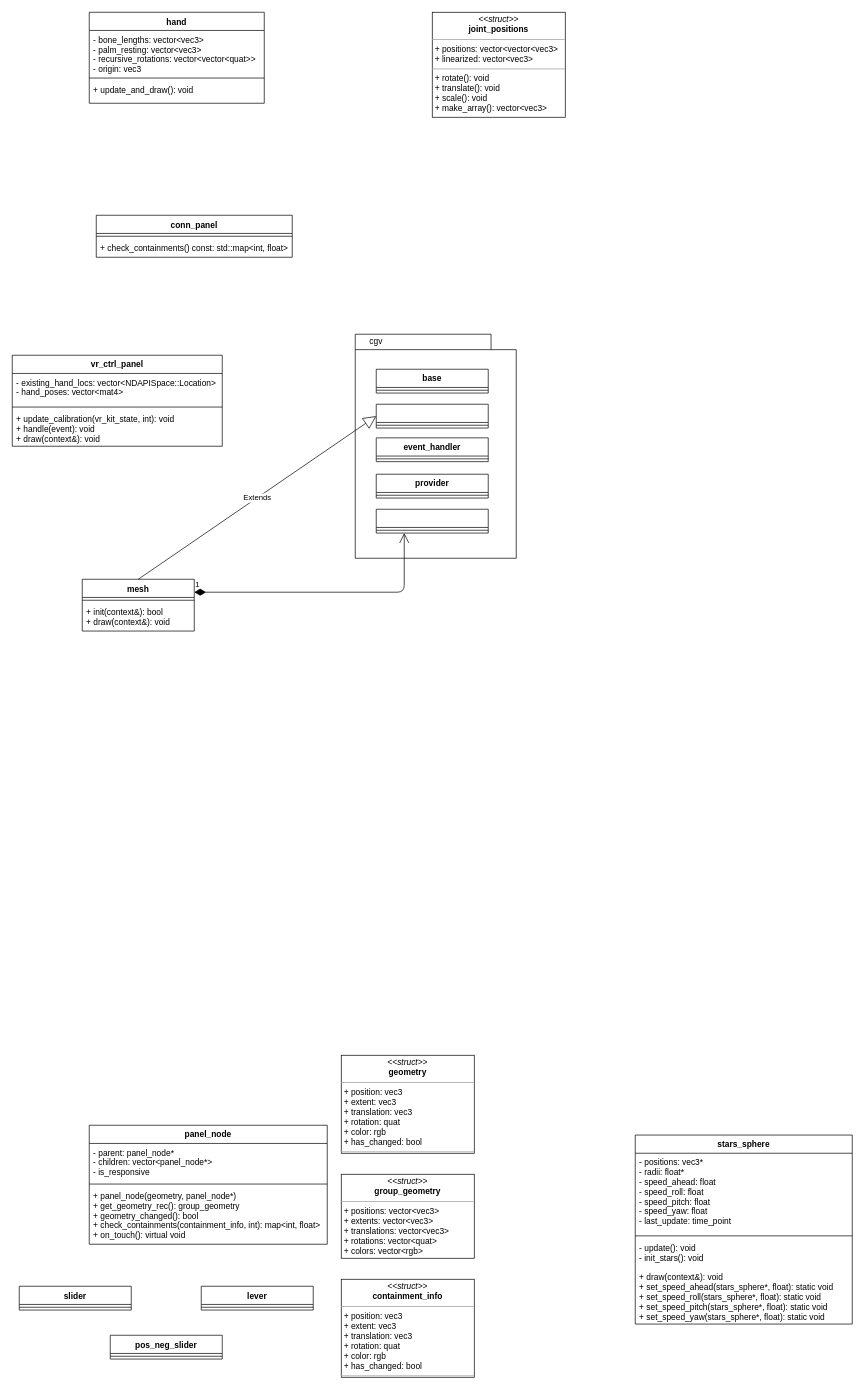
The diagram is 865 pixels wide and 1390 high, and some of its shapes have lost their labels. Each missing label, with the centre of its shape:
drawable: (432,416)
mesh_render_info: (432,521)
